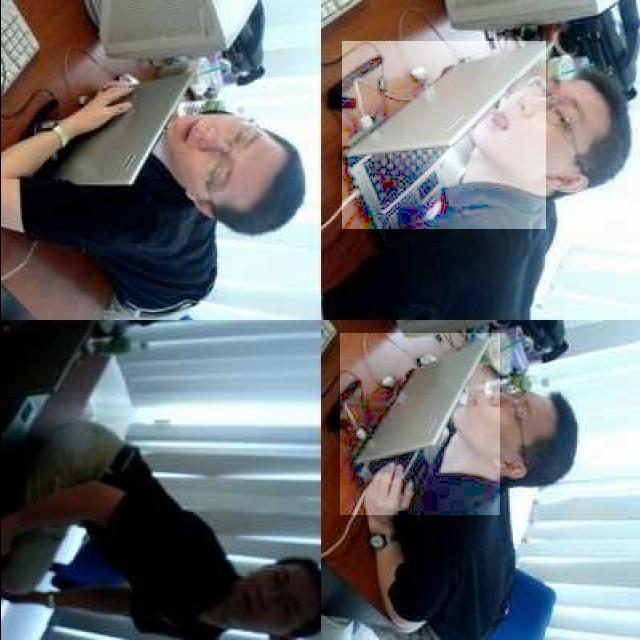-keyboard-: (342, 42, 546, 230), (340, 334, 500, 516)
